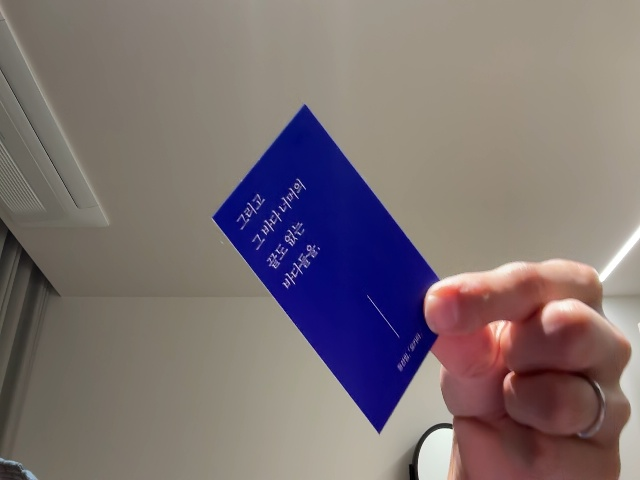card: (212, 104, 462, 435)
